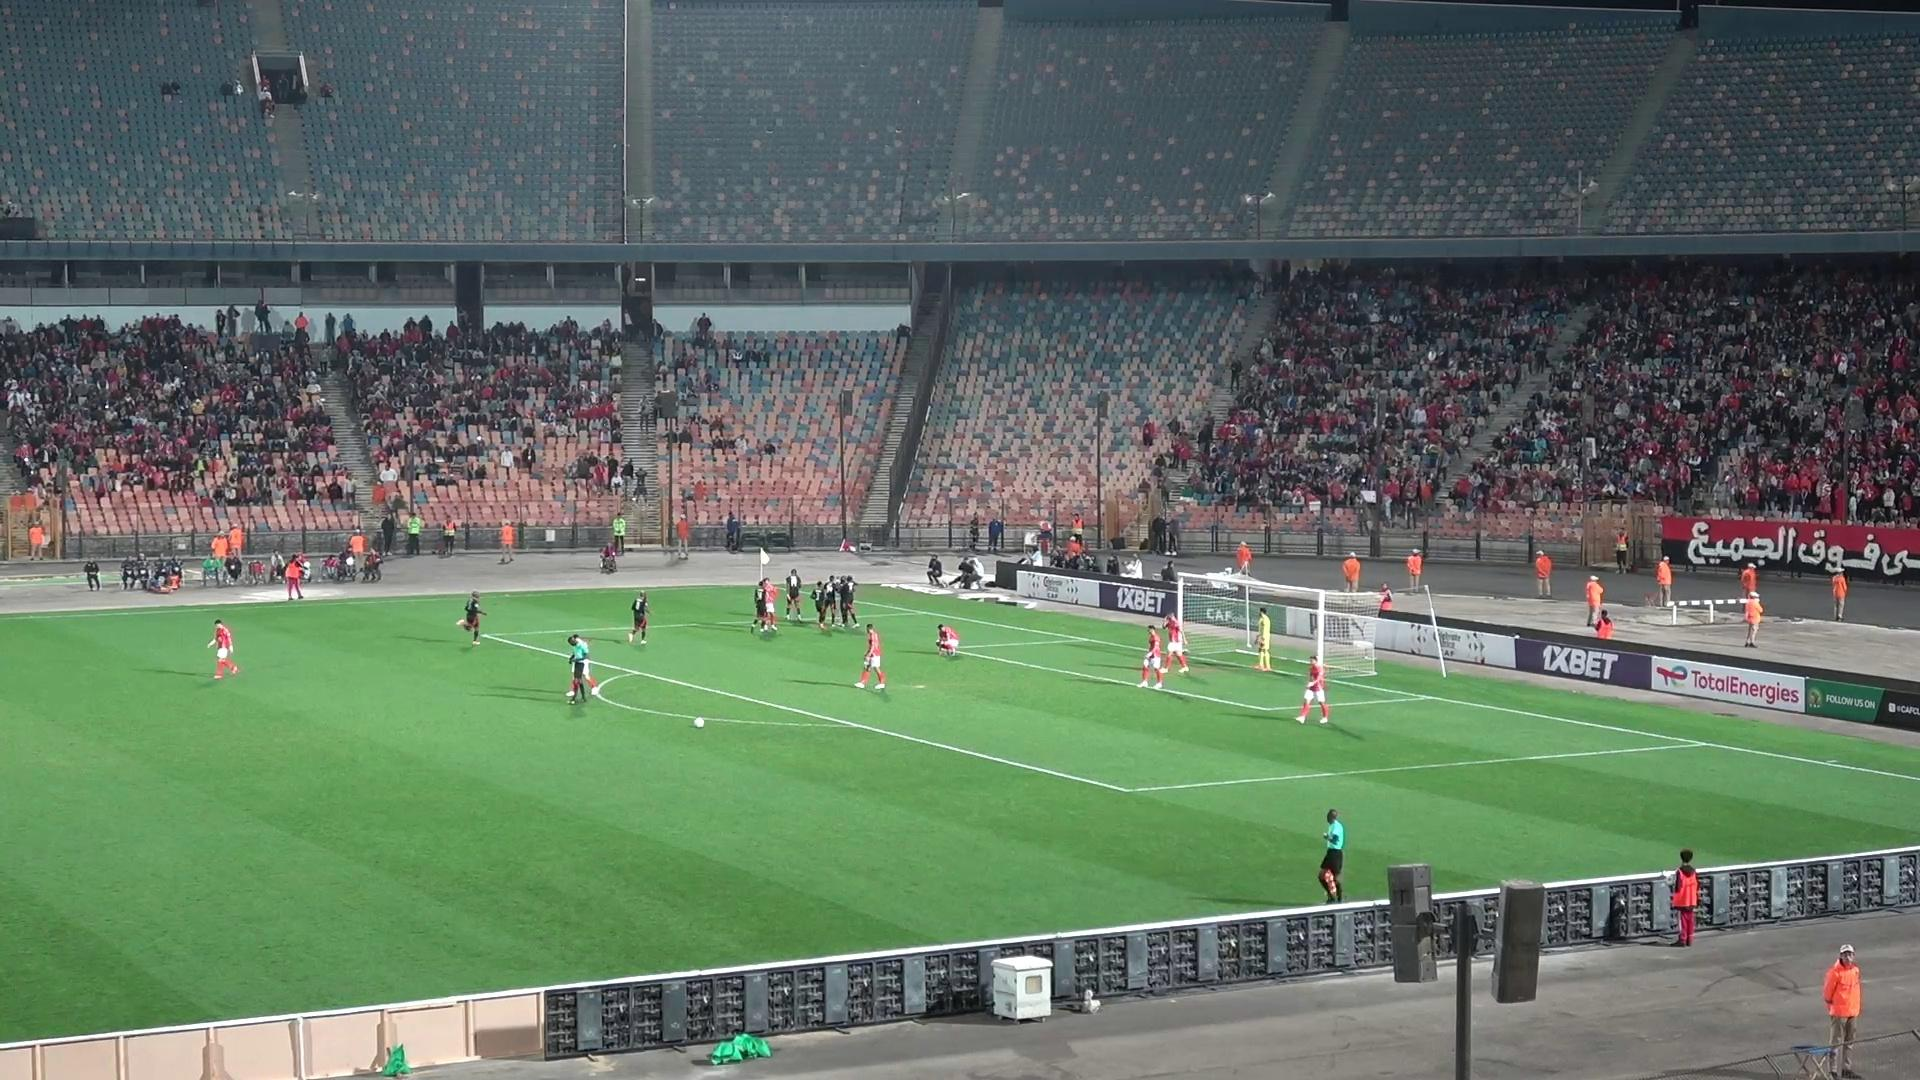Ball: (692, 717, 704, 728)
GK1: (1247, 605, 1273, 673)
Refree: (1316, 811, 1346, 902), (564, 634, 597, 703)
Team1: (1296, 655, 1331, 723), (206, 618, 240, 680), (855, 625, 886, 690), (1135, 626, 1168, 684), (1160, 612, 1188, 673), (760, 578, 781, 634), (934, 625, 959, 655)
Team2: (456, 592, 487, 645), (812, 576, 843, 629), (625, 591, 650, 644), (752, 582, 775, 636), (837, 575, 858, 626), (785, 568, 800, 624)
